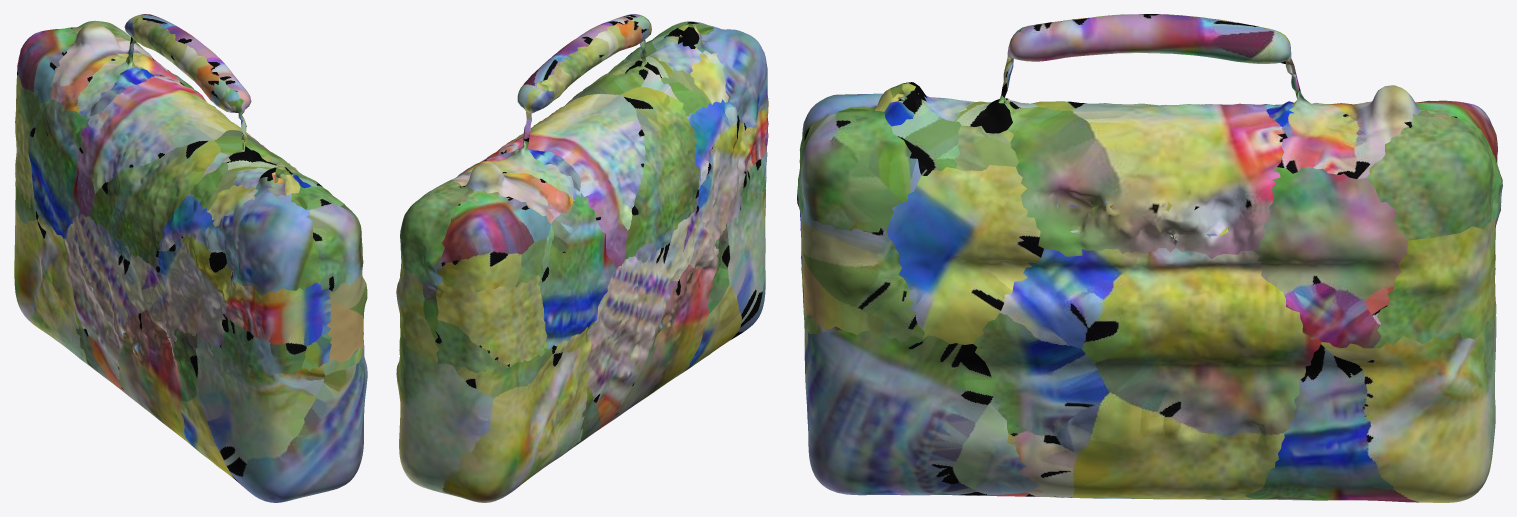
File: Tool_Kit_0822030715_preview.obj
The picture shows the model from 3 angles, left to right: view 1: azimuth 30°, elevation 25°; view 2: azimuth 150°, elevation 25°; view 3: azimuth 270°, elevation 25°; orthographic projection. The views are drawn at different scales.
Parts seen in each view (by area): view 1: Mesh1; view 2: Mesh1; view 3: Mesh1.
Boxes of the visible parts, x1=… form: Mesh1: x1=14, y1=14, x2=367, y2=502; Mesh1: x1=396, y1=14, x2=768, y2=502; Mesh1: x1=797, y1=14, x2=1502, y2=502.
Size of the model in its own units: 0.3899 by 0.884 by 1.2.
